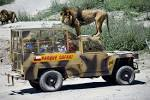lion: (60, 4, 116, 38)
